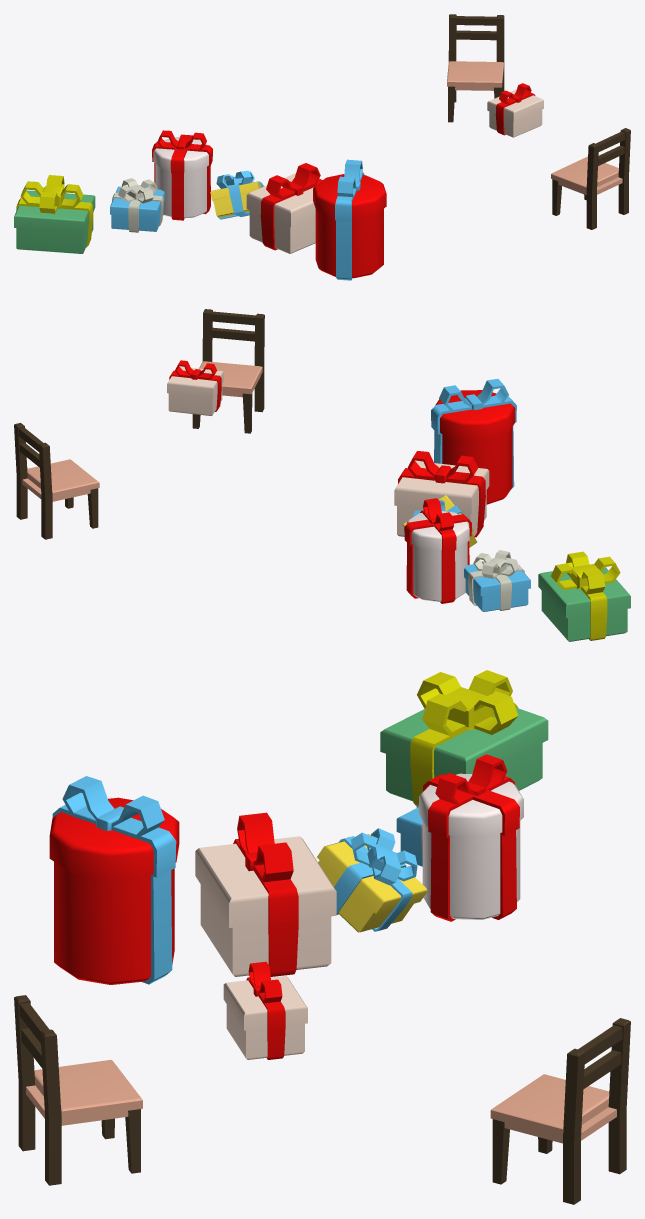
The model's file is ChristmasInteractables_VR.fbx.
3 renders of one model, top to bottom at view 1: azimuth 30°, elevation 25°; view 2: azimuth 150°, elevation 25°; view 3: azimuth 270°, elevation 25°, orthographic. The views are drawn at different scales.
Visible parts, largest first — view 1: Present_02, Present_06, Present_01, Present_04, Chair_01, Chair_02, Present_05, Present_09, Present_03; view 2: Present_02, Present_06, Present_04, Present_01, Chair_02, Chair_01, Present_05, Present_09; view 3: Present_02, Present_01, Present_04, Present_06, Chair_02, Chair_01, Present_03, Present_09, Present_05.
Boxes of the visible parts, x1,y1,x2,y2 form: Present_02: [313, 159, 386, 280]; Present_06: [14, 175, 95, 253]; Present_01: [246, 163, 322, 253]; Present_04: [152, 130, 212, 220]; Chair_01: [551, 128, 630, 229]; Chair_02: [447, 14, 504, 122]; Present_05: [110, 178, 164, 232]; Present_09: [487, 83, 543, 137]; Present_03: [210, 170, 264, 219]; Present_02: [431, 378, 516, 504]; Present_06: [538, 551, 630, 641]; Present_04: [404, 498, 471, 603]; Present_01: [394, 451, 489, 537]; Chair_02: [14, 423, 99, 539]; Chair_01: [192, 309, 264, 433]; Present_05: [464, 550, 530, 611]; Present_09: [167, 360, 223, 415]; Present_02: [49, 776, 179, 984]; Present_01: [195, 812, 336, 976]; Present_04: [419, 754, 523, 921]; Present_06: [380, 670, 548, 805]; Chair_02: [490, 1018, 630, 1204]; Chair_01: [14, 995, 142, 1185]; Present_03: [317, 828, 427, 932]; Present_09: [223, 961, 307, 1059]; Present_05: [396, 804, 422, 866].
Size of the model in its own units: 27.97 by 4.94 by 15.98.
